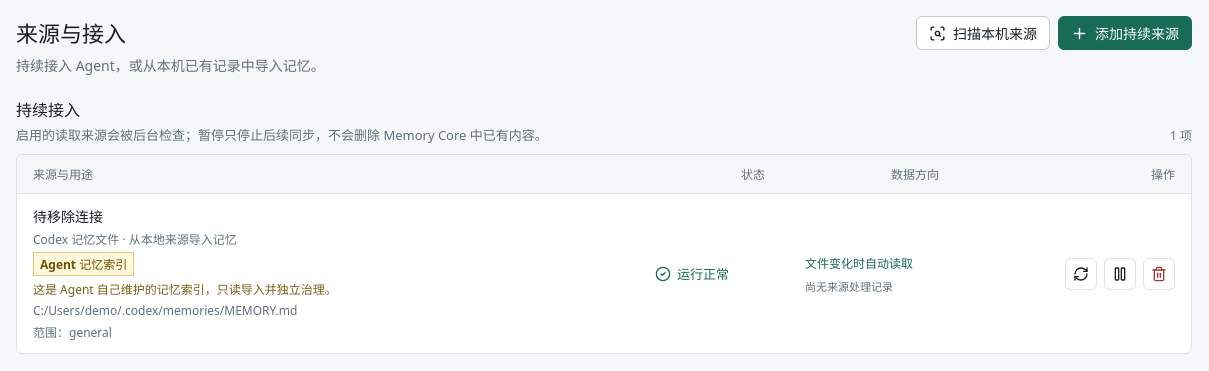
Scenario: ConnectionsView › removes a connection while keeping imported memories intact
Click the button named "移除连接": (1159, 274) [1143,258,1175,290]
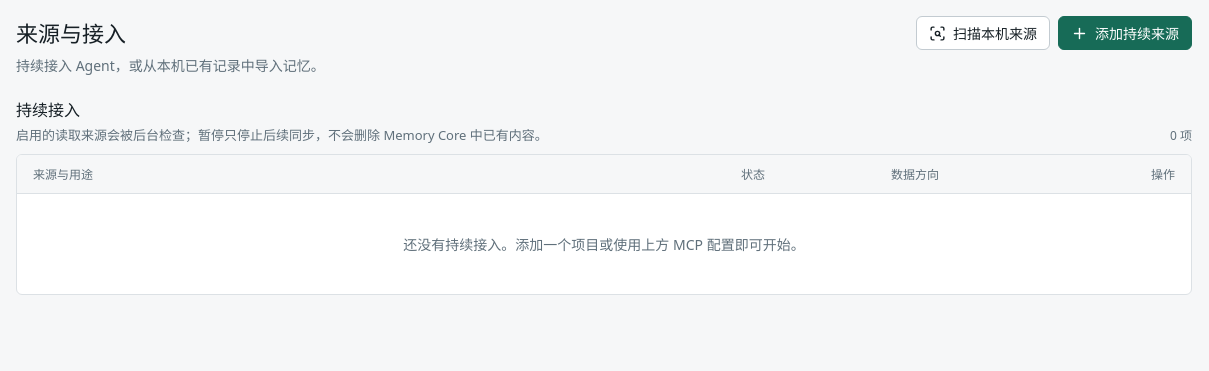
Expected: the text "待移除连接" is gone
